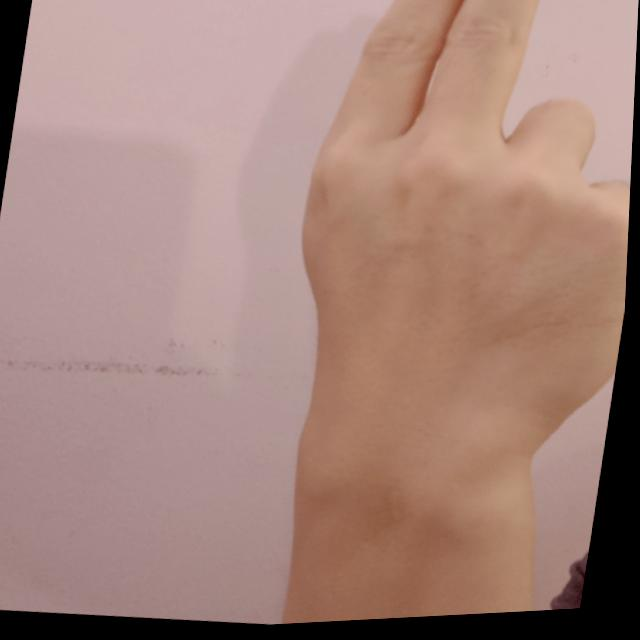U: (263, 0, 639, 474)
